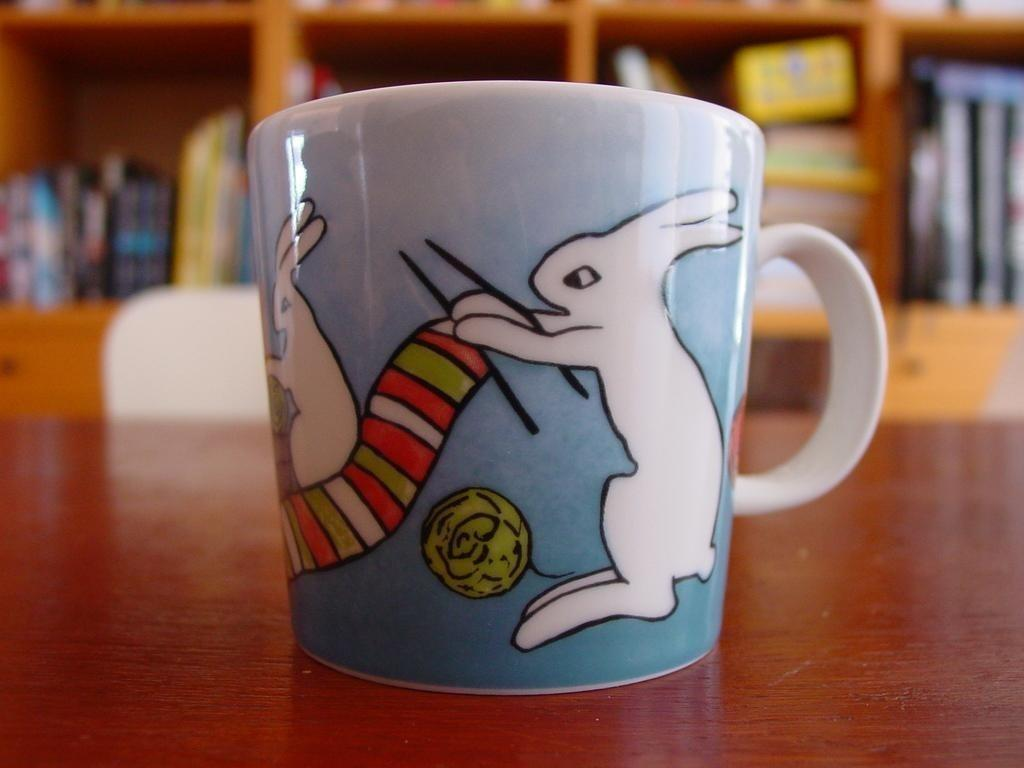cup-handle: (247, 76, 891, 698)
